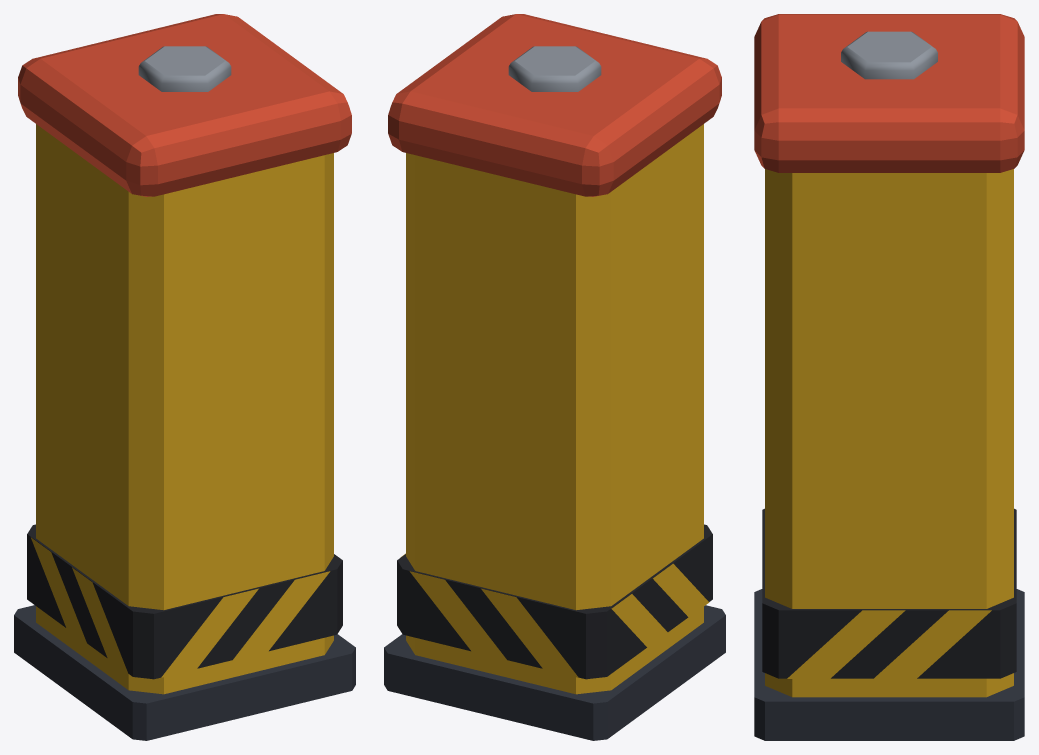
Rendered from toy-post.glb.
3 views of the same model, side by side, from view 1: azimuth 30°, elevation 25°; view 2: azimuth 150°, elevation 25°; view 3: azimuth 270°, elevation 25° (orthographic). The views are drawn at different scales.
Parts seen in each view (by area): view 1: toy-post; view 2: toy-post; view 3: toy-post.
Part boxes in pixels (left/top/right/bottom): toy-post: left=14, top=14, right=355, bottom=740; toy-post: left=384, top=14, right=725, bottom=740; toy-post: left=754, top=14, right=1024, bottom=740.
Size of the model in its own units: 0.5 by 1.3 by 0.5.
